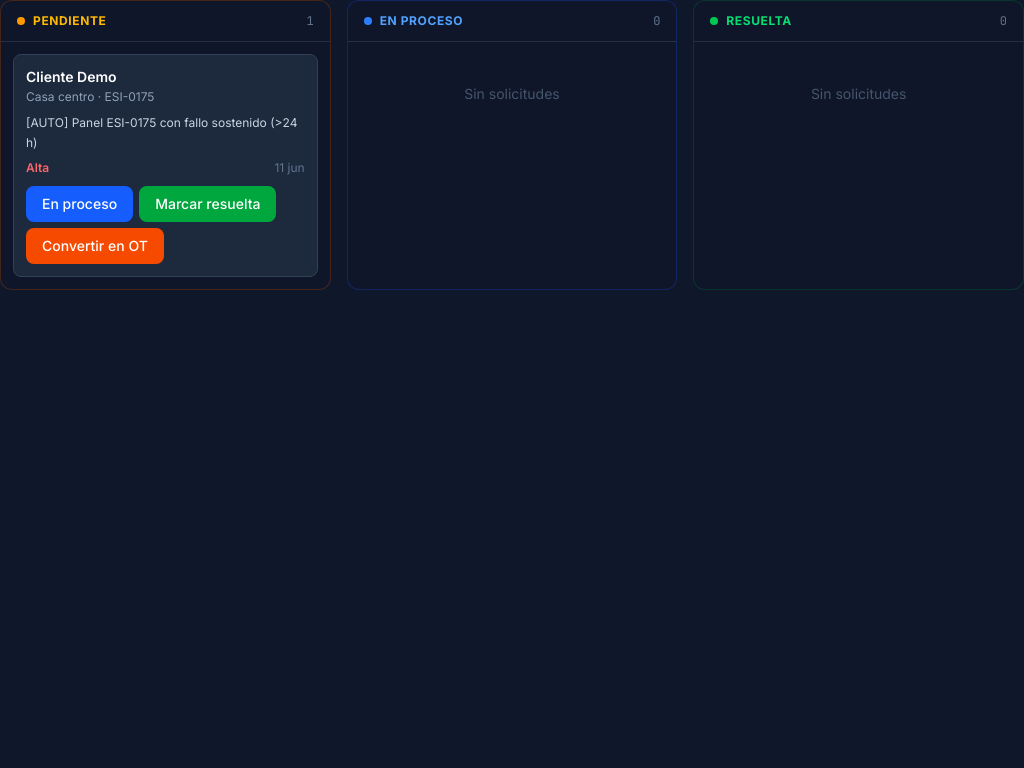
KanbanBoard — optimistic UI (RF-B2) › si el server falla, la tarjeta vuelve a su columna y el toast avisa
The image size is (1024, 768).
Click the button "En proceso": click(80, 204) [26,186,133,222]
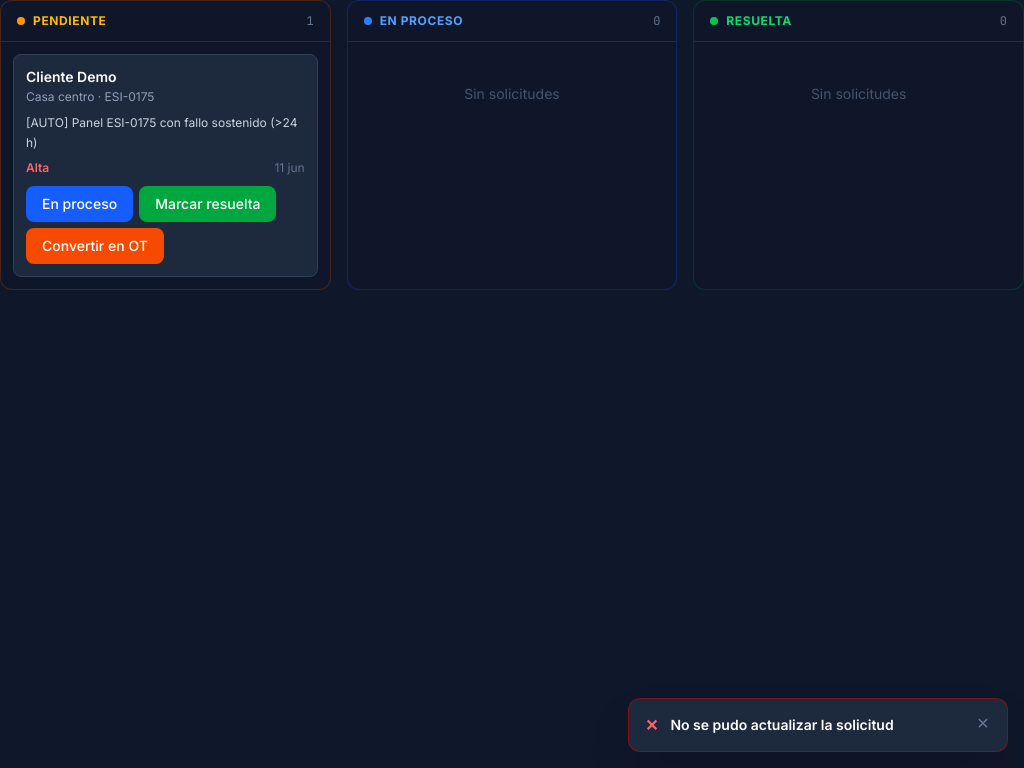
Expected: the text "No se pudo actualizar la solicitud" is shown, [670,715,894,735]
